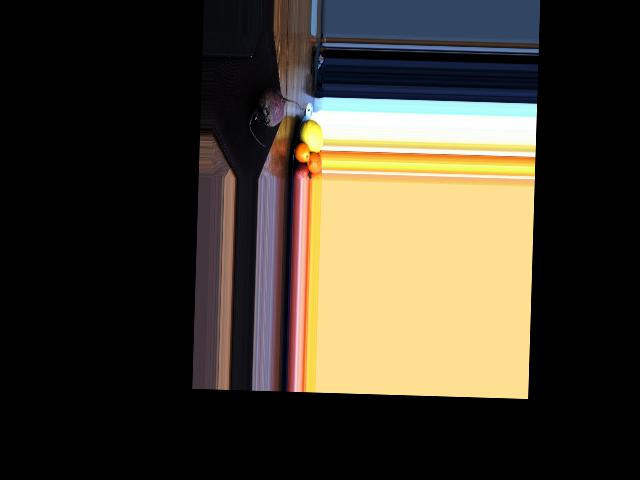beet: (248, 87, 301, 147)
